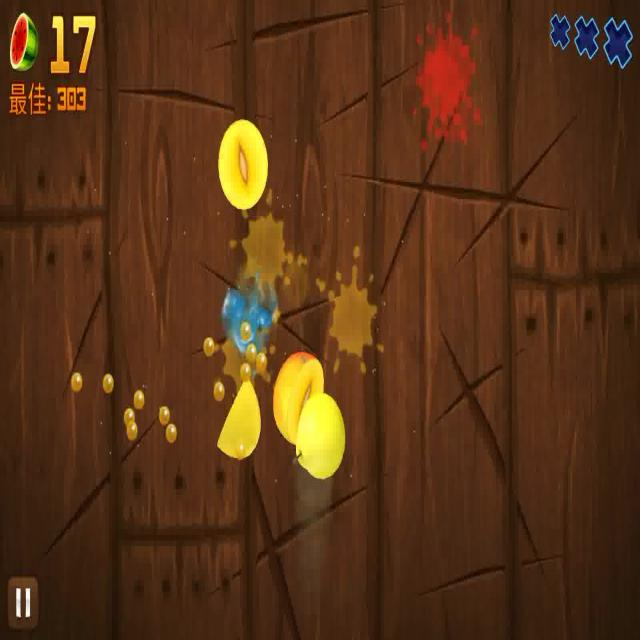fruit: (215, 114, 272, 220), (292, 382, 348, 483)
